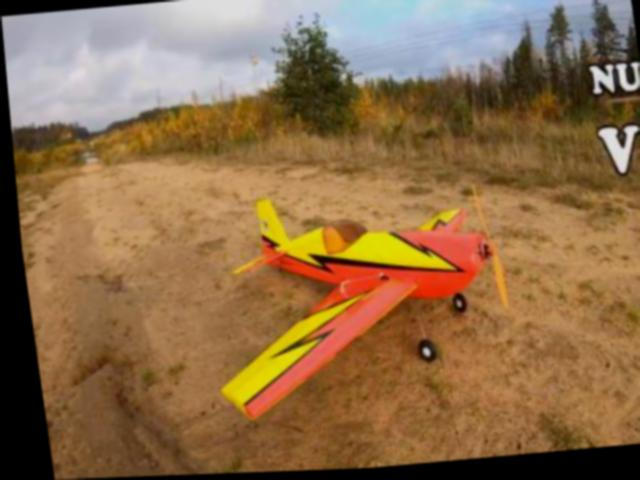uav: (184, 174, 520, 428)
